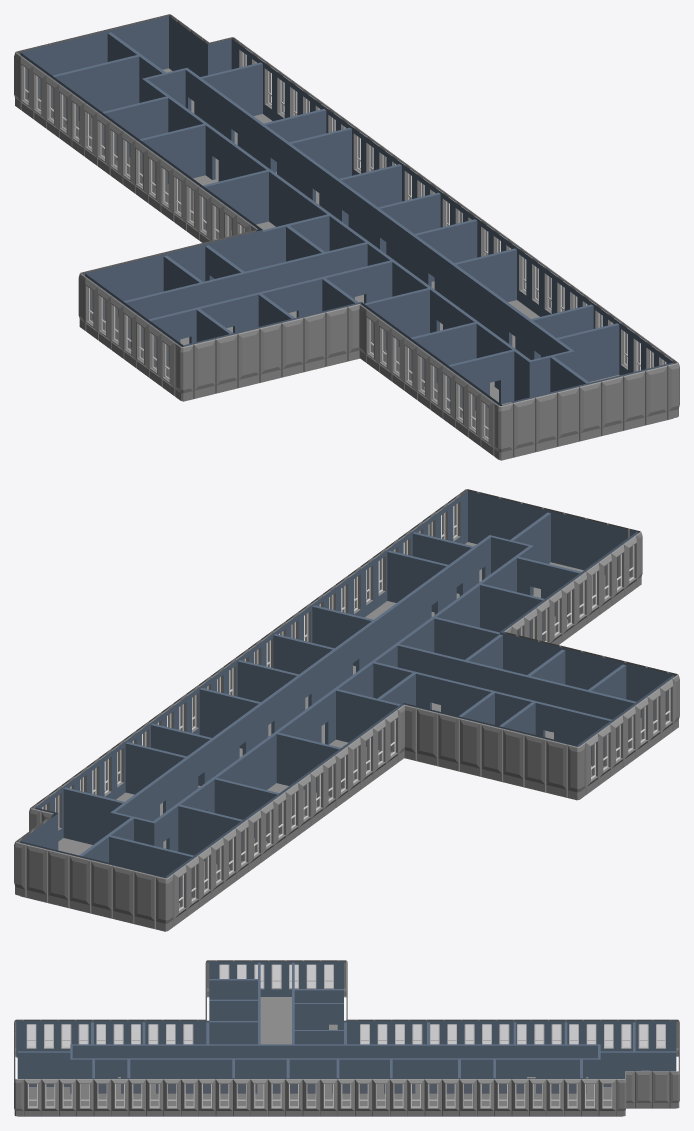
File: 3_floor.DAE
The picture shows the model from 3 angles, top to bottom: view 1: azimuth 30°, elevation 25°; view 2: azimuth 150°, elevation 25°; view 3: azimuth 270°, elevation 25°; orthographic projection. The views are drawn at different scales.
Parts seen in each view (by area): view 1: __floor; view 2: __floor; view 3: __floor.
Boxes of the visible parts, bbox=[...] form: __floor: bbox=[14, 14, 679, 460]; __floor: bbox=[14, 489, 679, 931]; __floor: bbox=[14, 960, 679, 1116].
Size of the model in its own units: 38.11 by 88.45 by 5.65.
